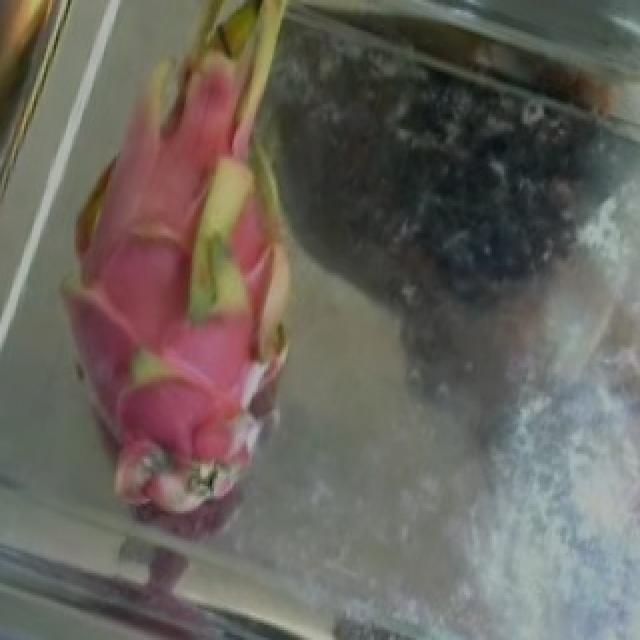fruit: (0, 2, 386, 412)
